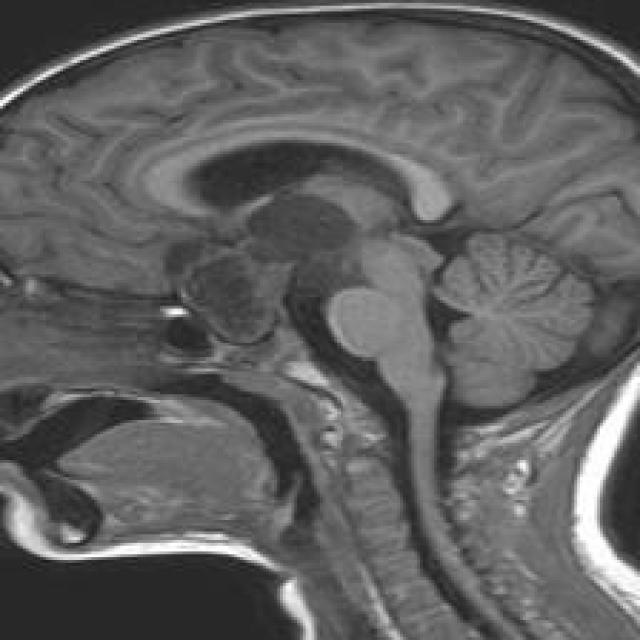no_tumor: (3, 0, 637, 537)
